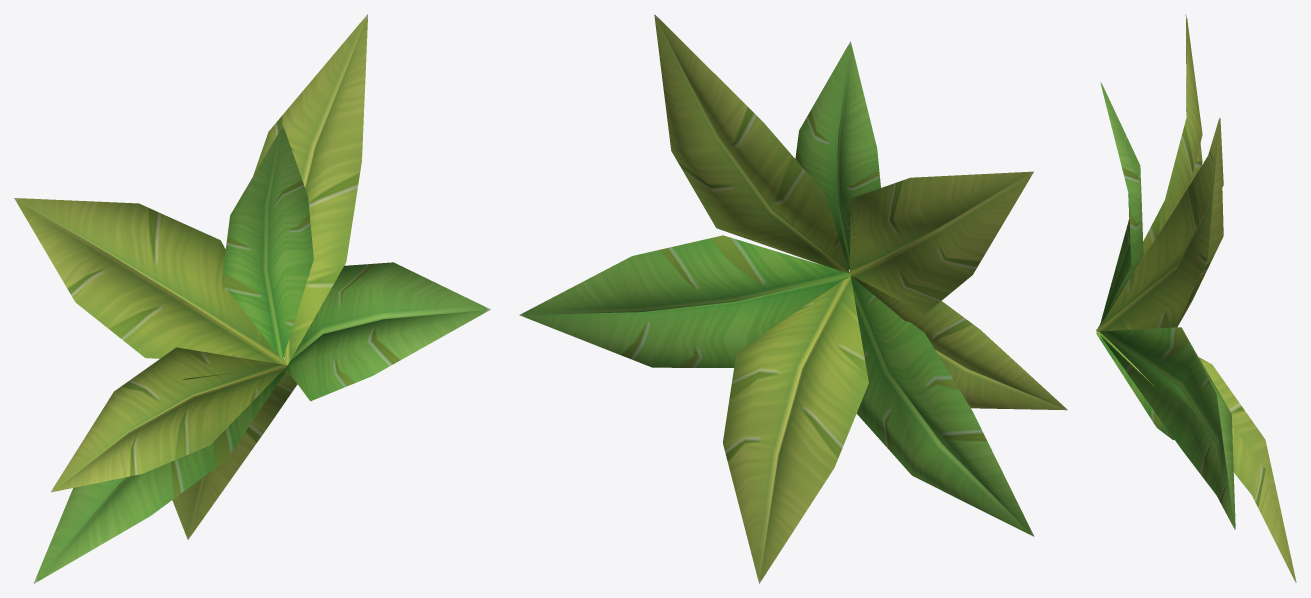
File: Plant_C.fbx
3 views of the same model, side by side, from view 1: azimuth 30°, elevation 25°; view 2: azimuth 150°, elevation 25°; view 3: azimuth 270°, elevation 25° (orthographic). The views are drawn at different scales.
Parts seen in each view (by area): view 1: Plant_C; view 2: Plant_C; view 3: Plant_C.
Boxes of the visible parts, <box> form: Plant_C: <box>14,14,490,583</box>; Plant_C: <box>519,14,1067,583</box>; Plant_C: <box>1096,14,1296,582</box>.
Size of the model in its own units: 3.13 by 3.1 by 1.05.
